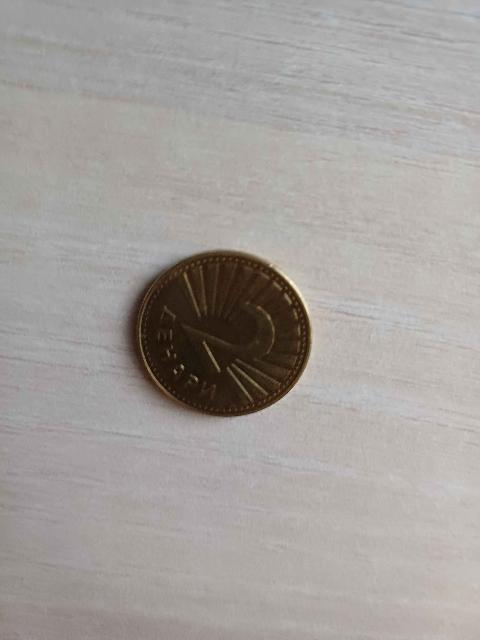coin: (136, 243, 310, 409)
